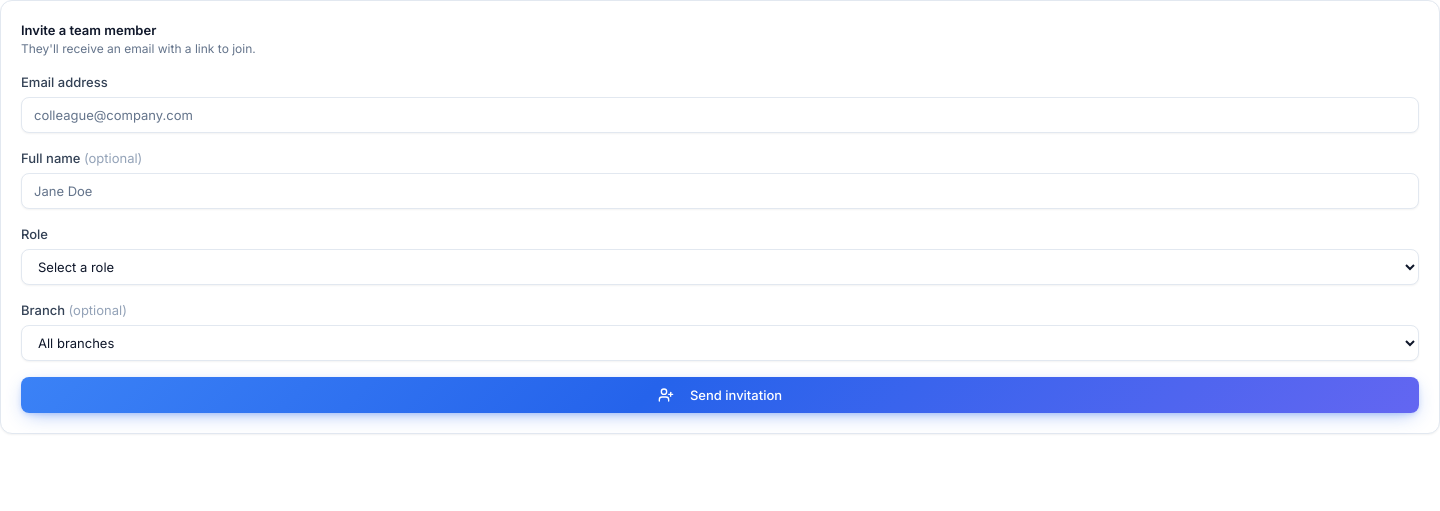
Scenario: InviteUserForm › displays a server error returned by the action
The width and height of the screenshot is (1440, 511).
Type "dupe@user.com" into the field labelled "Email address".
click(720, 115); type("dupe@user.com")  # box [21,97,1419,133]
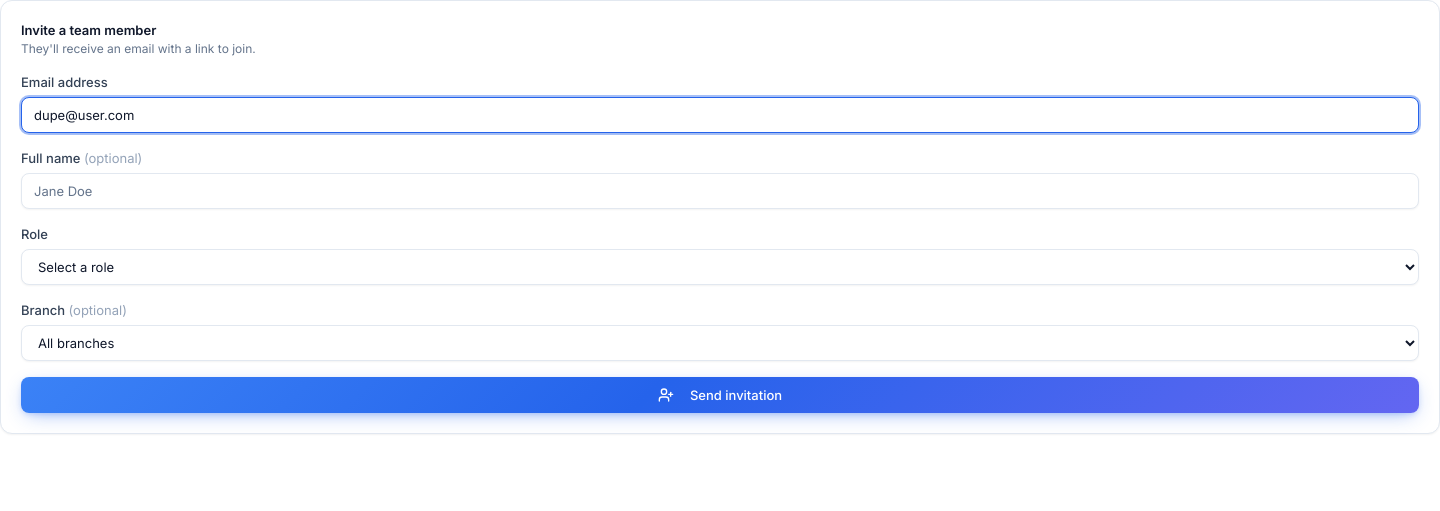
Select "Accountant" in the dropdown labelled "Role" at [720, 267], box [21,249,1419,285]
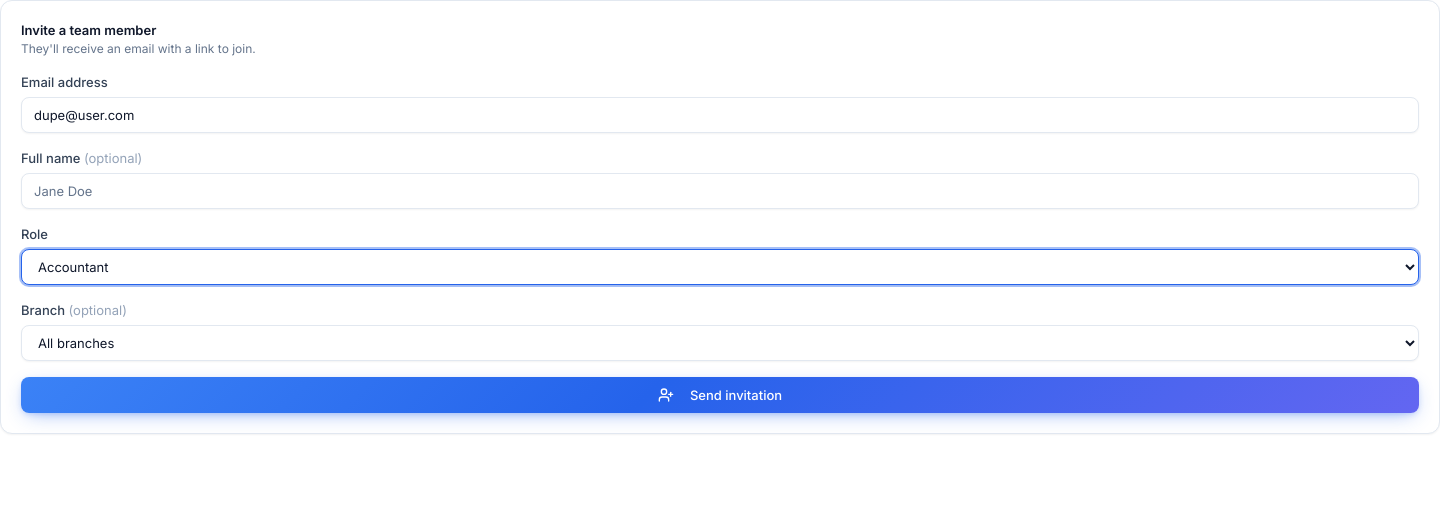
Click the button "Send invitation".
click(720, 395)  # box [21,377,1419,413]
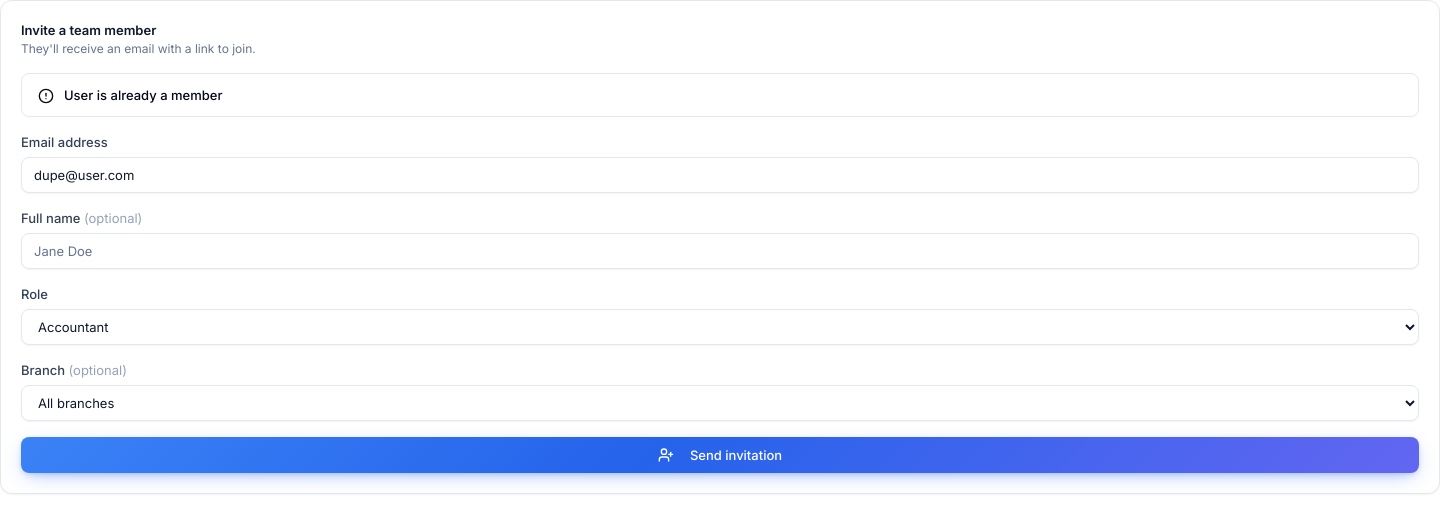
Check: the text "User is already a member" is shown, box [64,86,222,104]
